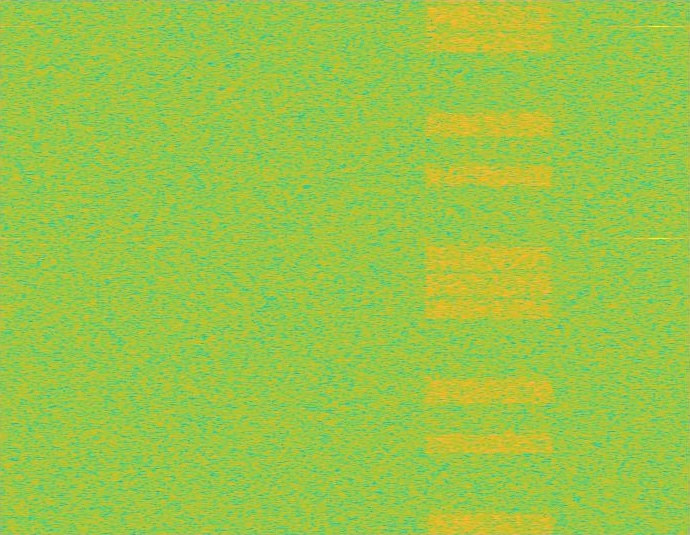LTE: (420, 0, 558, 534)
Radar: (652, 0, 666, 534)
